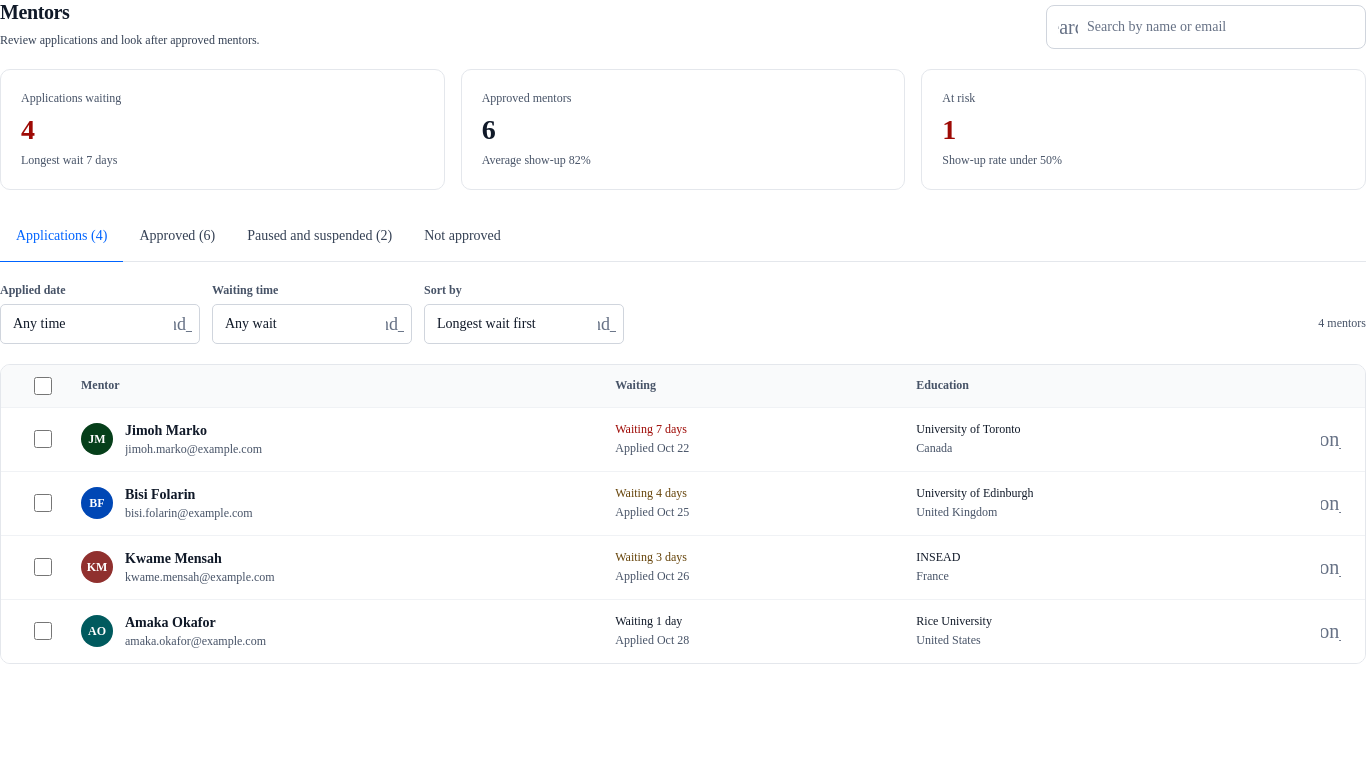
Test: the drawer › approved: stats, recent bookings, Email and Pause
Click the tab "Approved (6)" at x=177, y=236, box top-left (123, 210), bottom-right (231, 262)
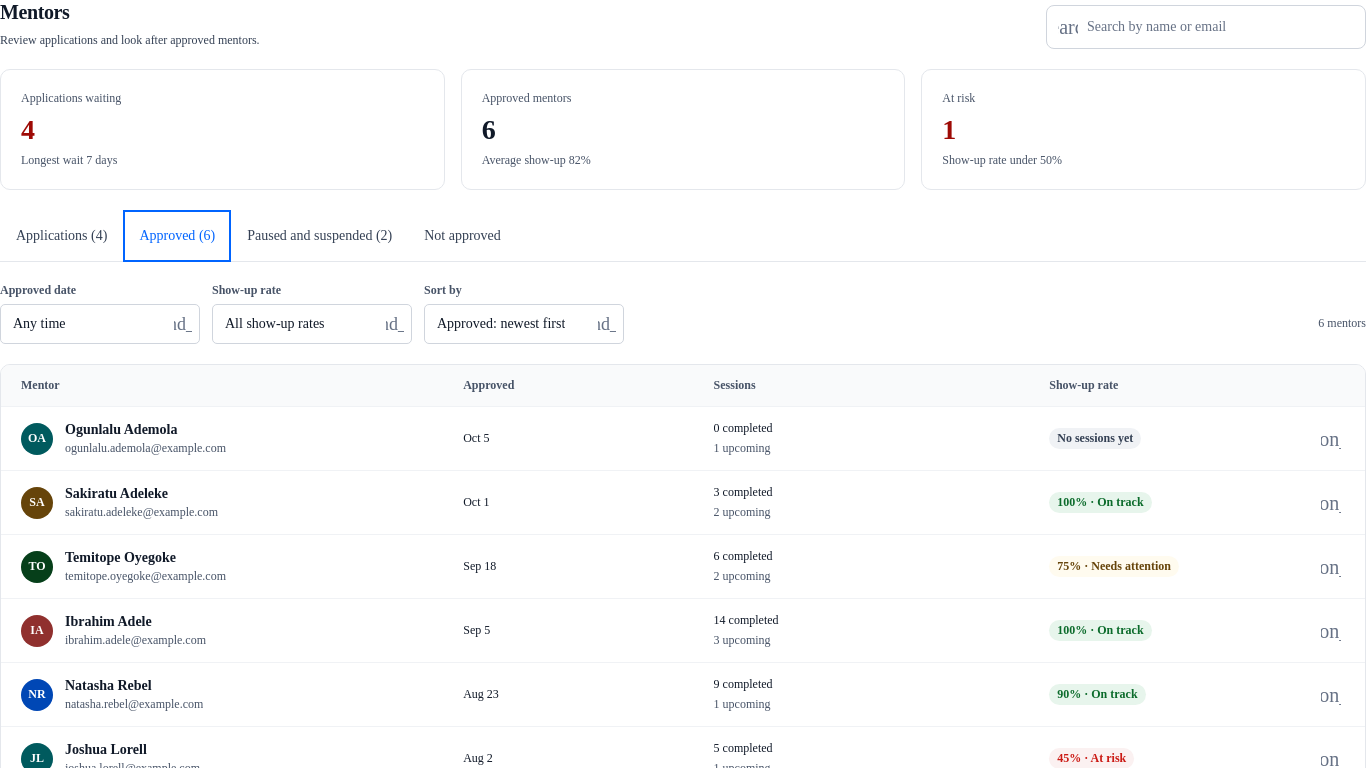
Click the button with aria-label "Open Joshua Lorell" at x=132, y=750, box top-left (65, 740), bottom-right (200, 760)
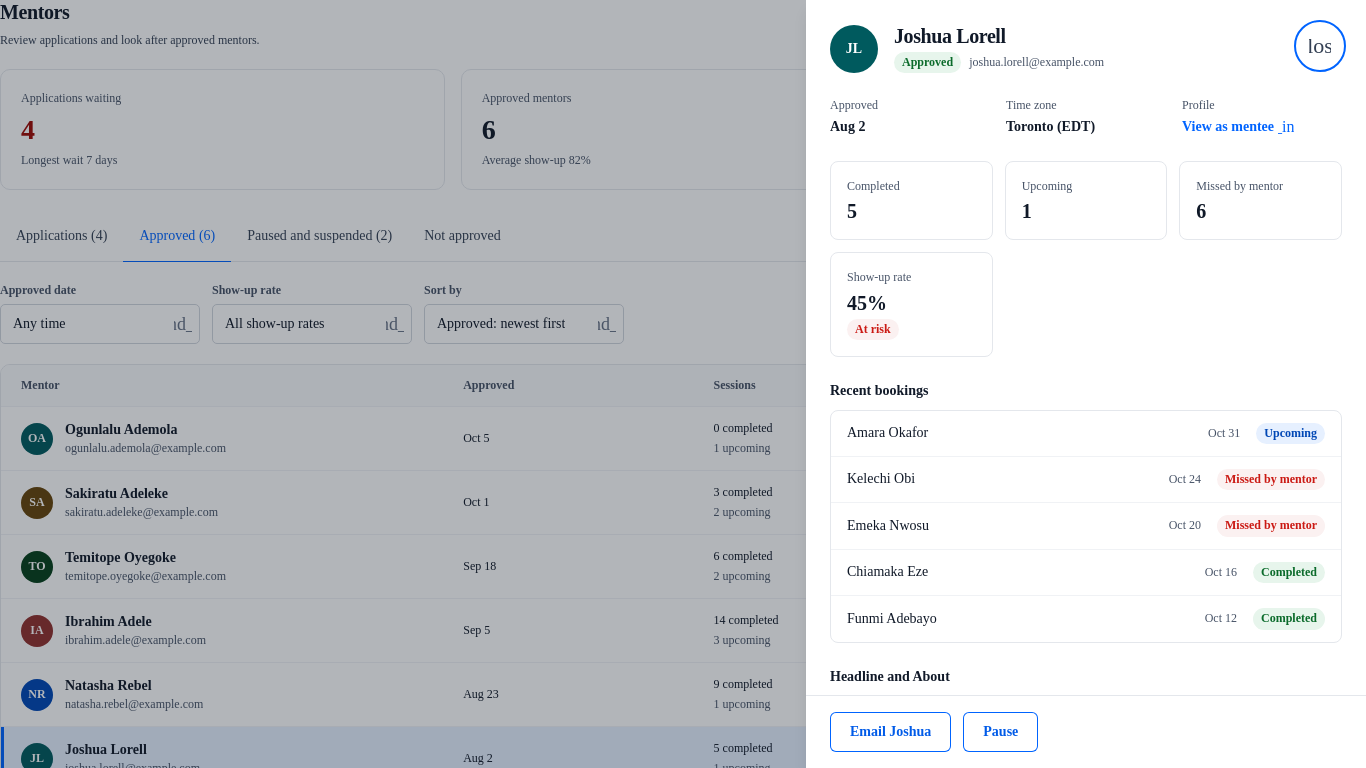
Now the heading "Recent bookings" is shown, box top-left (830, 383), bottom-right (928, 398)
Now the text "45%" is shown, box top-left (847, 292), bottom-right (887, 314)
Now the 1st text "Missed by mentor" is shown, box top-left (1196, 179), bottom-right (1283, 193)
